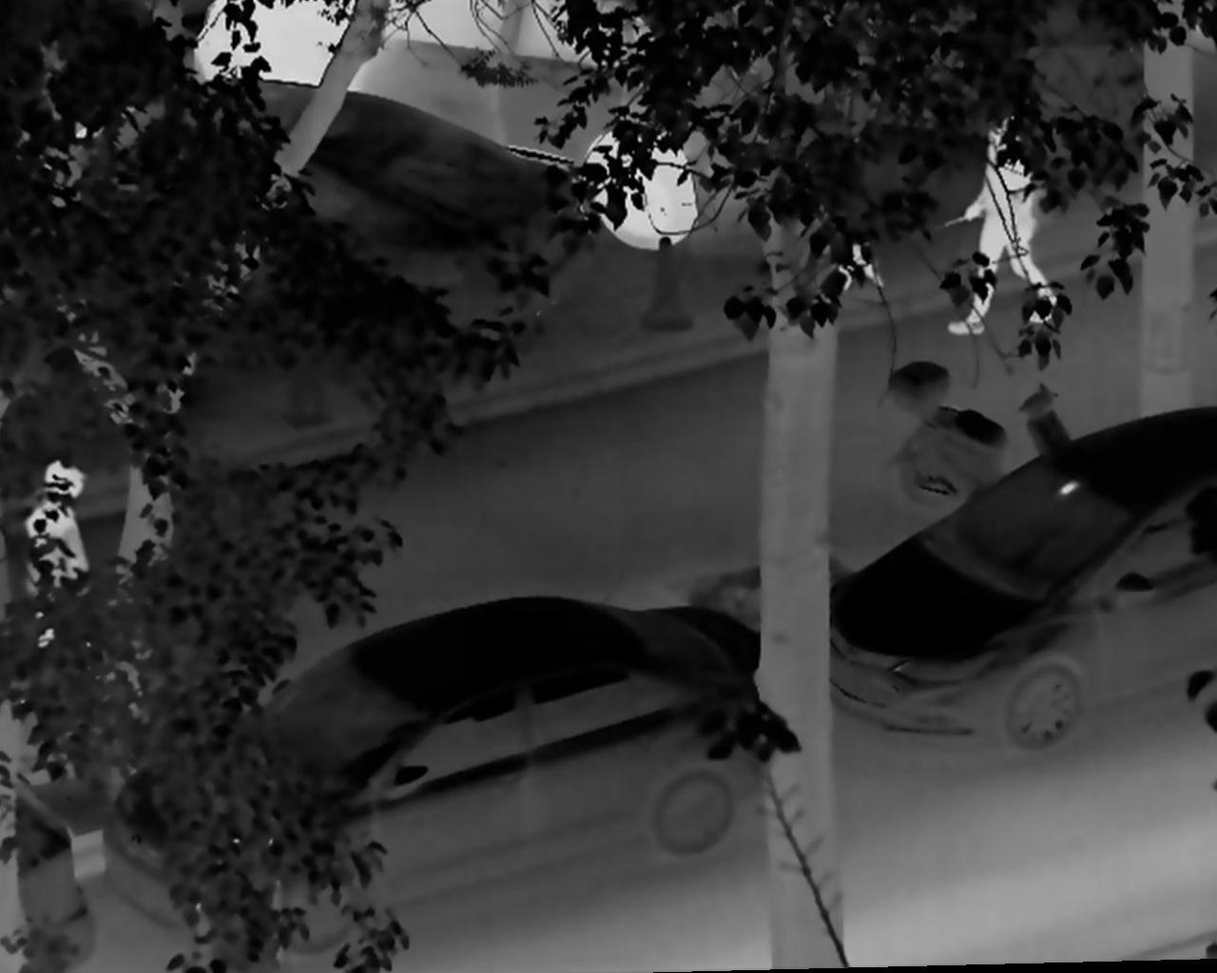person: (943, 98, 1062, 338), (17, 460, 100, 666)
